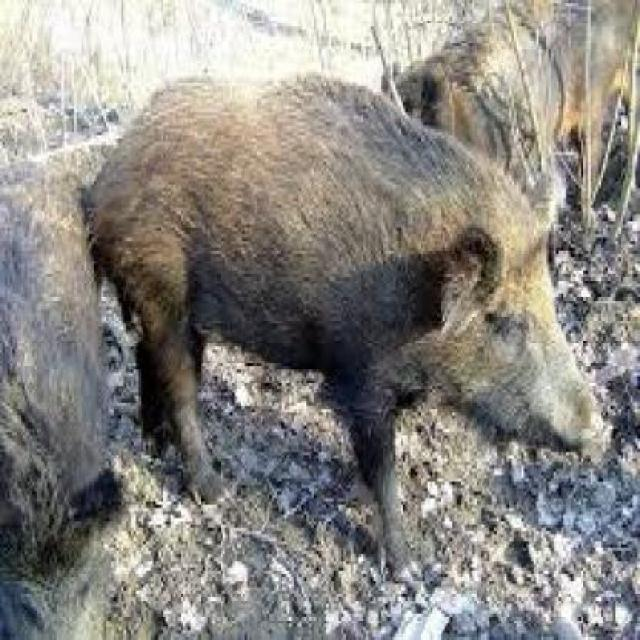wildboar: (77, 67, 609, 585), (355, 0, 640, 231), (0, 194, 146, 640)
